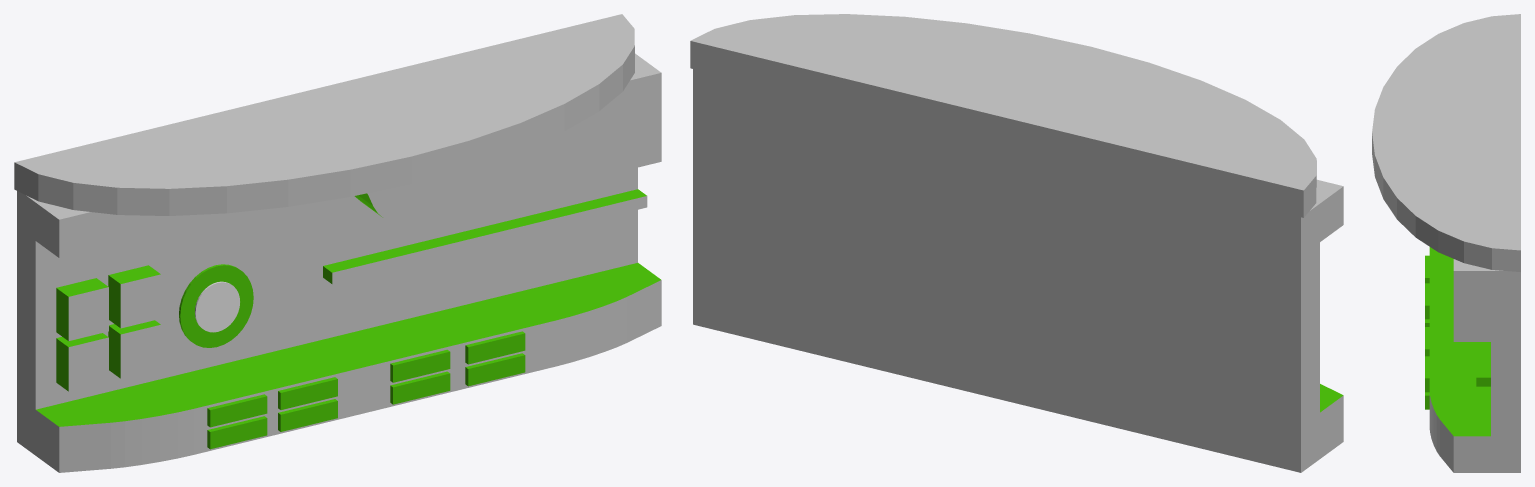
File: Especies.dae
3 views of the same model, side by side, from view 1: azimuth 30°, elevation 25°; view 2: azimuth 150°, elevation 25°; view 3: azimuth 270°, elevation 25° (orthographic). The views are drawn at different scales.
Visible parts, largest first — view 1: Cube-005, Cylinder, Cube-013, Cylinder-002, Cube-010, Cube-011, Cube-009, Cube-012, Cylinder-003, Cube-014, Cube-021, Cube-019 (+5 smaller); view 2: Cube-005, Cylinder; view 3: Cylinder, Cube-005, Cube-013, Cube-021, Cube-017.
Part boxes in pixels (x1=…): Cube-005: x1=17, y1=53, x2=661, y2=472; Cylinder: x1=14, y1=14, x2=634, y2=215; Cube-013: x1=323, y1=189, x2=647, y2=284; Cylinder-002: x1=179, y1=264, x2=253, y2=347; Cube-010: x1=56, y1=278, x2=108, y2=341; Cube-011: x1=108, y1=265, x2=160, y2=328; Cube-009: x1=56, y1=333, x2=108, y2=391; Cube-012: x1=108, y1=320, x2=160, y2=378; Cylinder-003: x1=194, y1=281, x2=239, y2=332; Cube-014: x1=207, y1=394, x2=267, y2=427; Cube-021: x1=465, y1=331, x2=525, y2=364; Cube-019: x1=390, y1=371, x2=450, y2=404; Cube-005: x1=693, y1=69, x2=1343, y2=472; Cylinder: x1=690, y1=14, x2=1316, y2=217; Cylinder: x1=1372, y1=14, x2=1520, y2=272; Cube-005: x1=1429, y1=247, x2=1520, y2=472; Cube-013: x1=1476, y1=342, x2=1490, y2=386; Cube-021: x1=1425, y1=356, x2=1429, y2=392; Cube-017: x1=1425, y1=283, x2=1429, y2=319.
Bounding box in the file's own units: 19 × 8.38 × 5.06.
